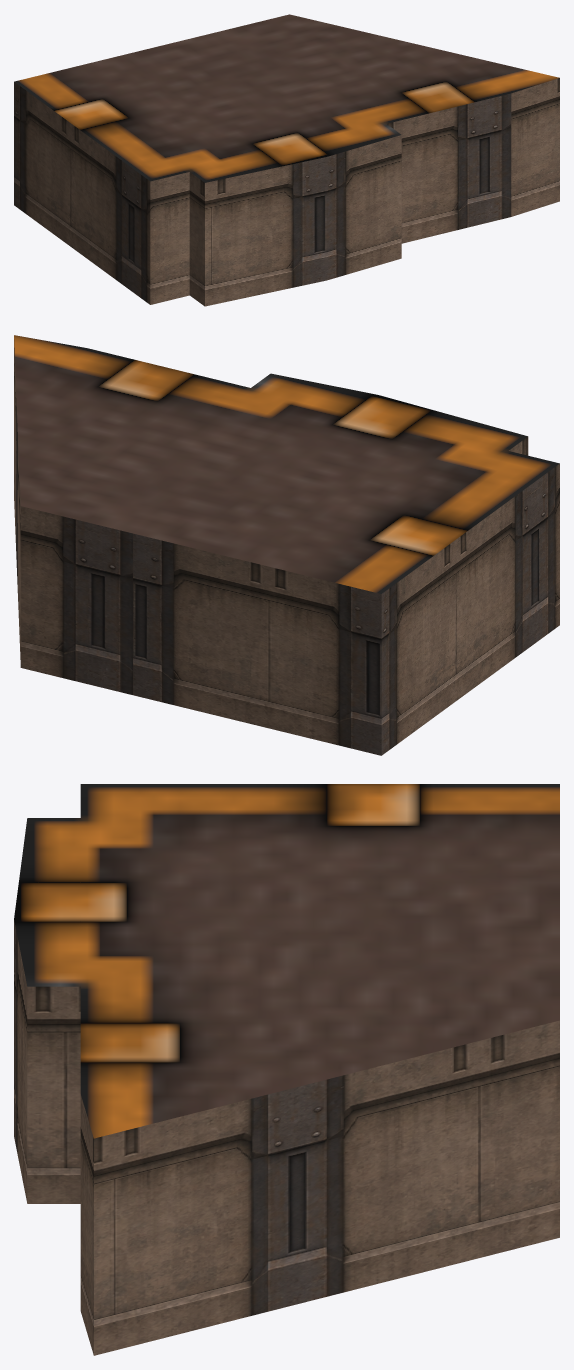
The model's file is heavy_roof03.glb.
3 renders of one model, top to bottom at view 1: azimuth 30°, elevation 25°; view 2: azimuth 150°, elevation 25°; view 3: azimuth 270°, elevation 25°, orthographic. The views are drawn at different scales.
Parts seen in each view (by area): view 1: buildings/saxarba/heavy/heavy_roof03; view 2: buildings/saxarba/heavy/heavy_roof03; view 3: buildings/saxarba/heavy/heavy_roof03.
Part boxes in pixels (x1,y1,x2,y2): buildings/saxarba/heavy/heavy_roof03: (14, 14, 559, 306); buildings/saxarba/heavy/heavy_roof03: (14, 335, 559, 755); buildings/saxarba/heavy/heavy_roof03: (14, 784, 559, 1355).
Bounding box in the file's own units: 63 × 18 × 41.
